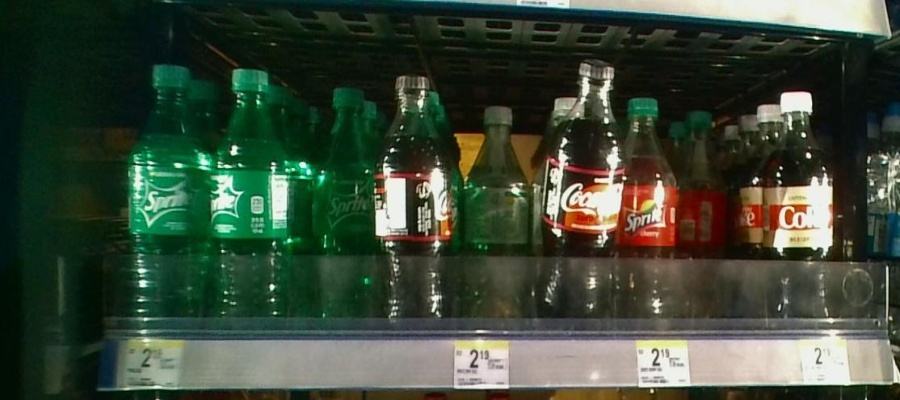bottle: (538, 52, 626, 324), (124, 53, 211, 327), (375, 73, 458, 333), (214, 64, 293, 331), (761, 91, 836, 325), (462, 87, 531, 320), (311, 77, 373, 329), (628, 94, 682, 326), (684, 101, 728, 322)
